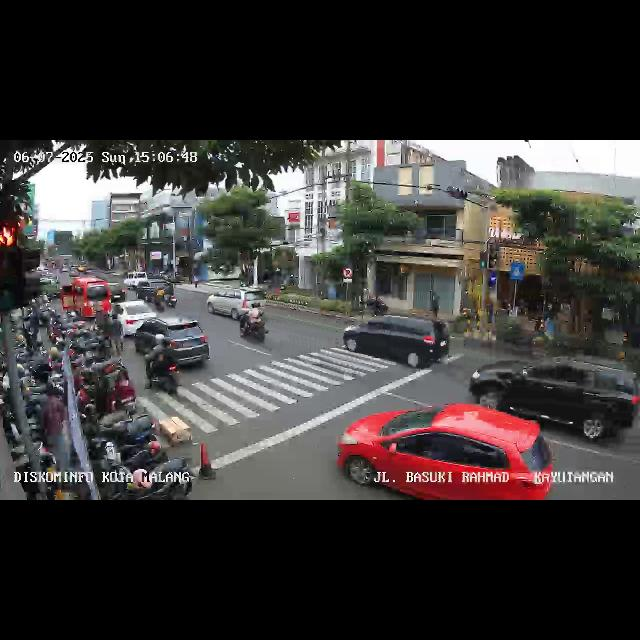car: (338, 402, 554, 500), (469, 354, 639, 446), (344, 312, 452, 372), (135, 314, 213, 376), (61, 276, 111, 322), (208, 286, 266, 320), (114, 300, 156, 338), (136, 278, 172, 302), (123, 268, 149, 288), (107, 284, 127, 302)
motorcycle: (144, 339, 182, 396), (238, 302, 268, 342)
person: (110, 313, 126, 357)
